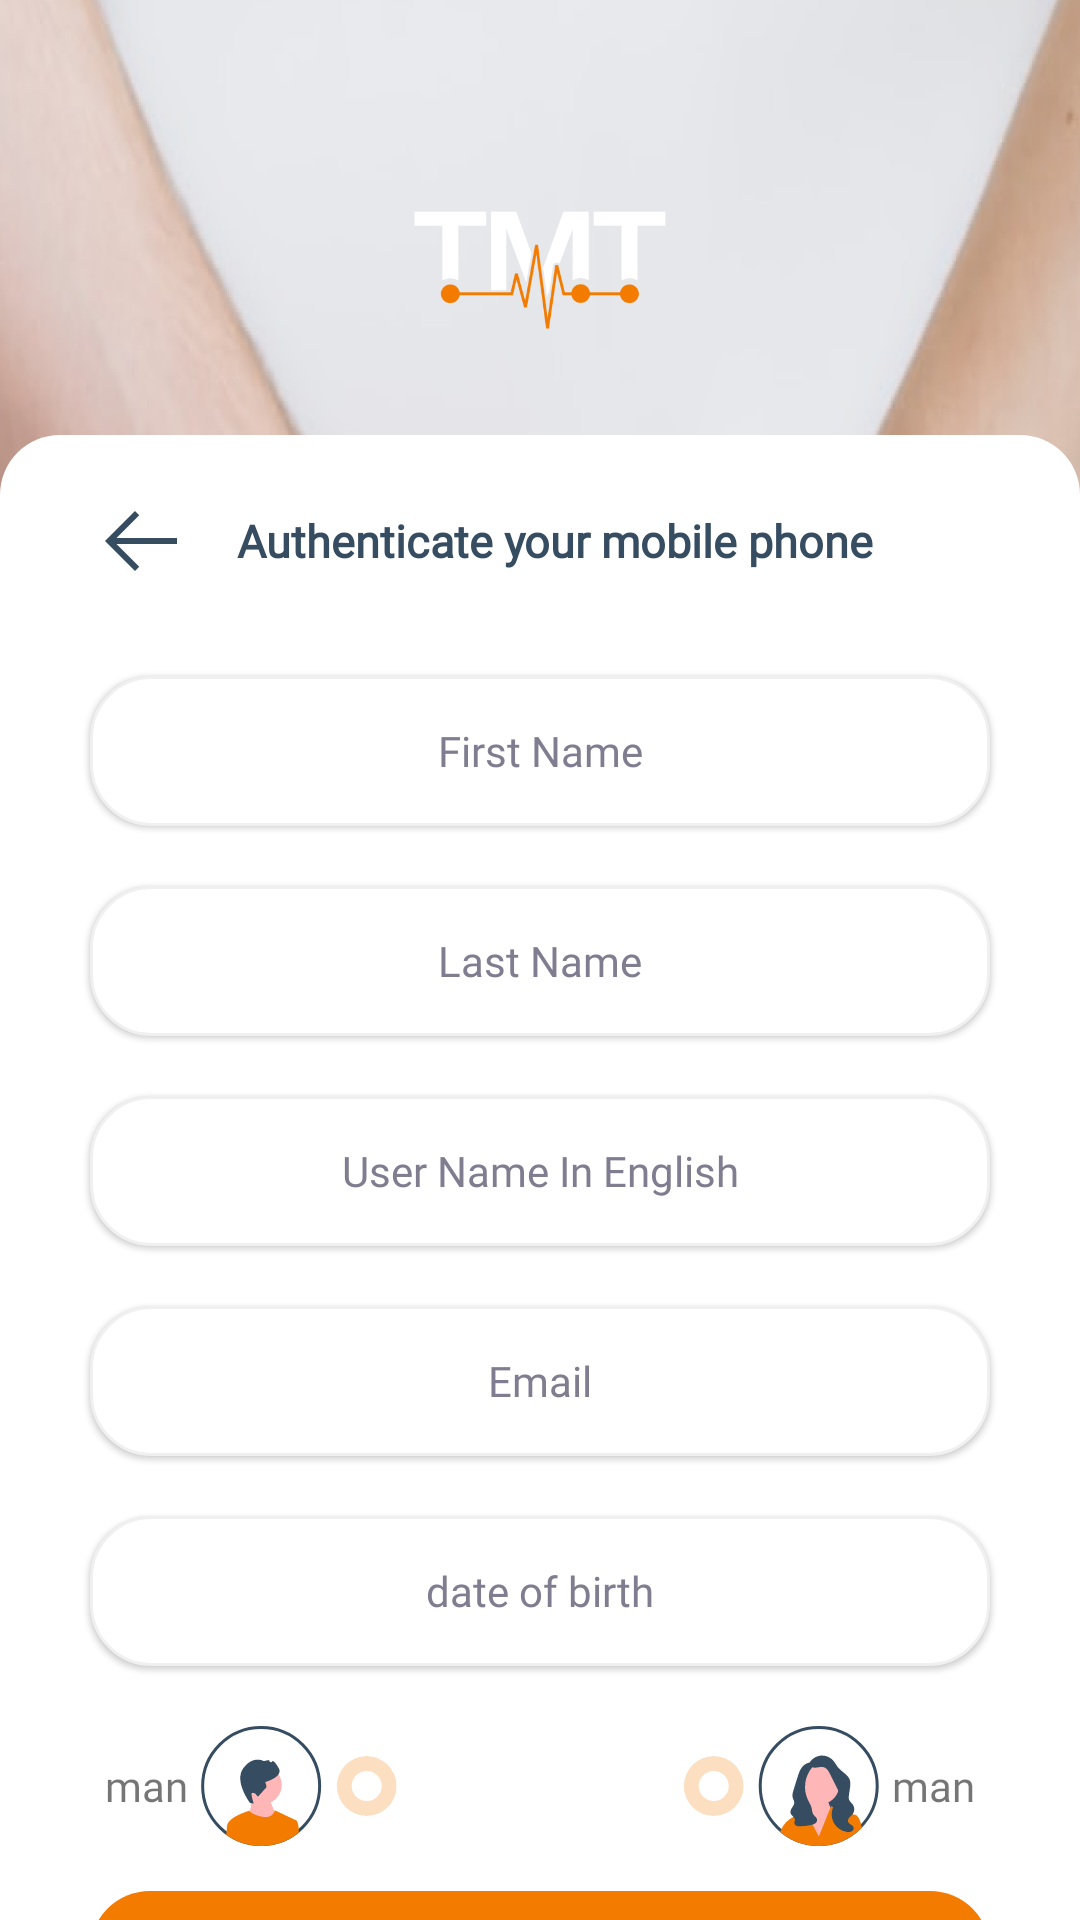

Screen size 1080*1920. Icon name, then its center in pixels as [x,y]:
back: [141,541]
